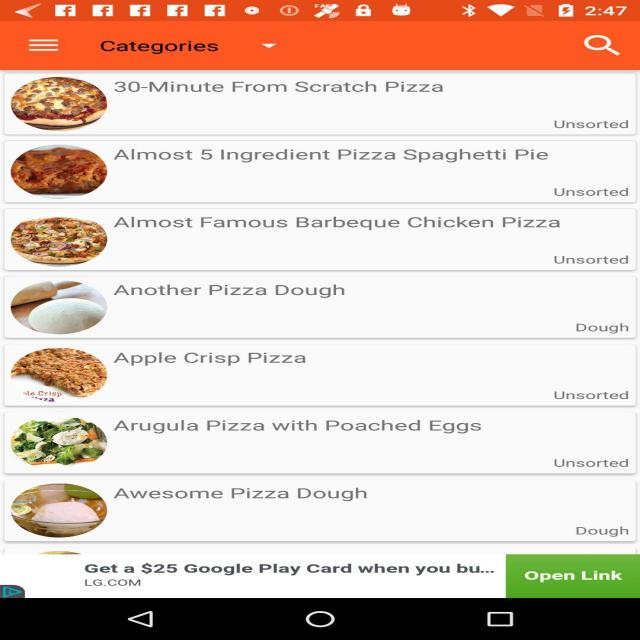button: (88, 30, 307, 66), (498, 549, 640, 600), (7, 31, 84, 64), (570, 29, 640, 65)
image: (9, 343, 118, 406), (13, 412, 117, 474), (8, 76, 119, 134), (11, 479, 116, 540), (8, 278, 117, 336), (6, 145, 114, 199), (11, 214, 112, 270)
text: (78, 560, 498, 590), (119, 213, 581, 240), (123, 414, 491, 440), (114, 143, 545, 164), (121, 77, 468, 99), (116, 482, 397, 507), (121, 280, 354, 305), (117, 348, 339, 374), (545, 451, 640, 475), (541, 385, 640, 408), (545, 114, 640, 134), (561, 314, 640, 338), (545, 184, 640, 202), (554, 250, 640, 269), (566, 522, 640, 541)
